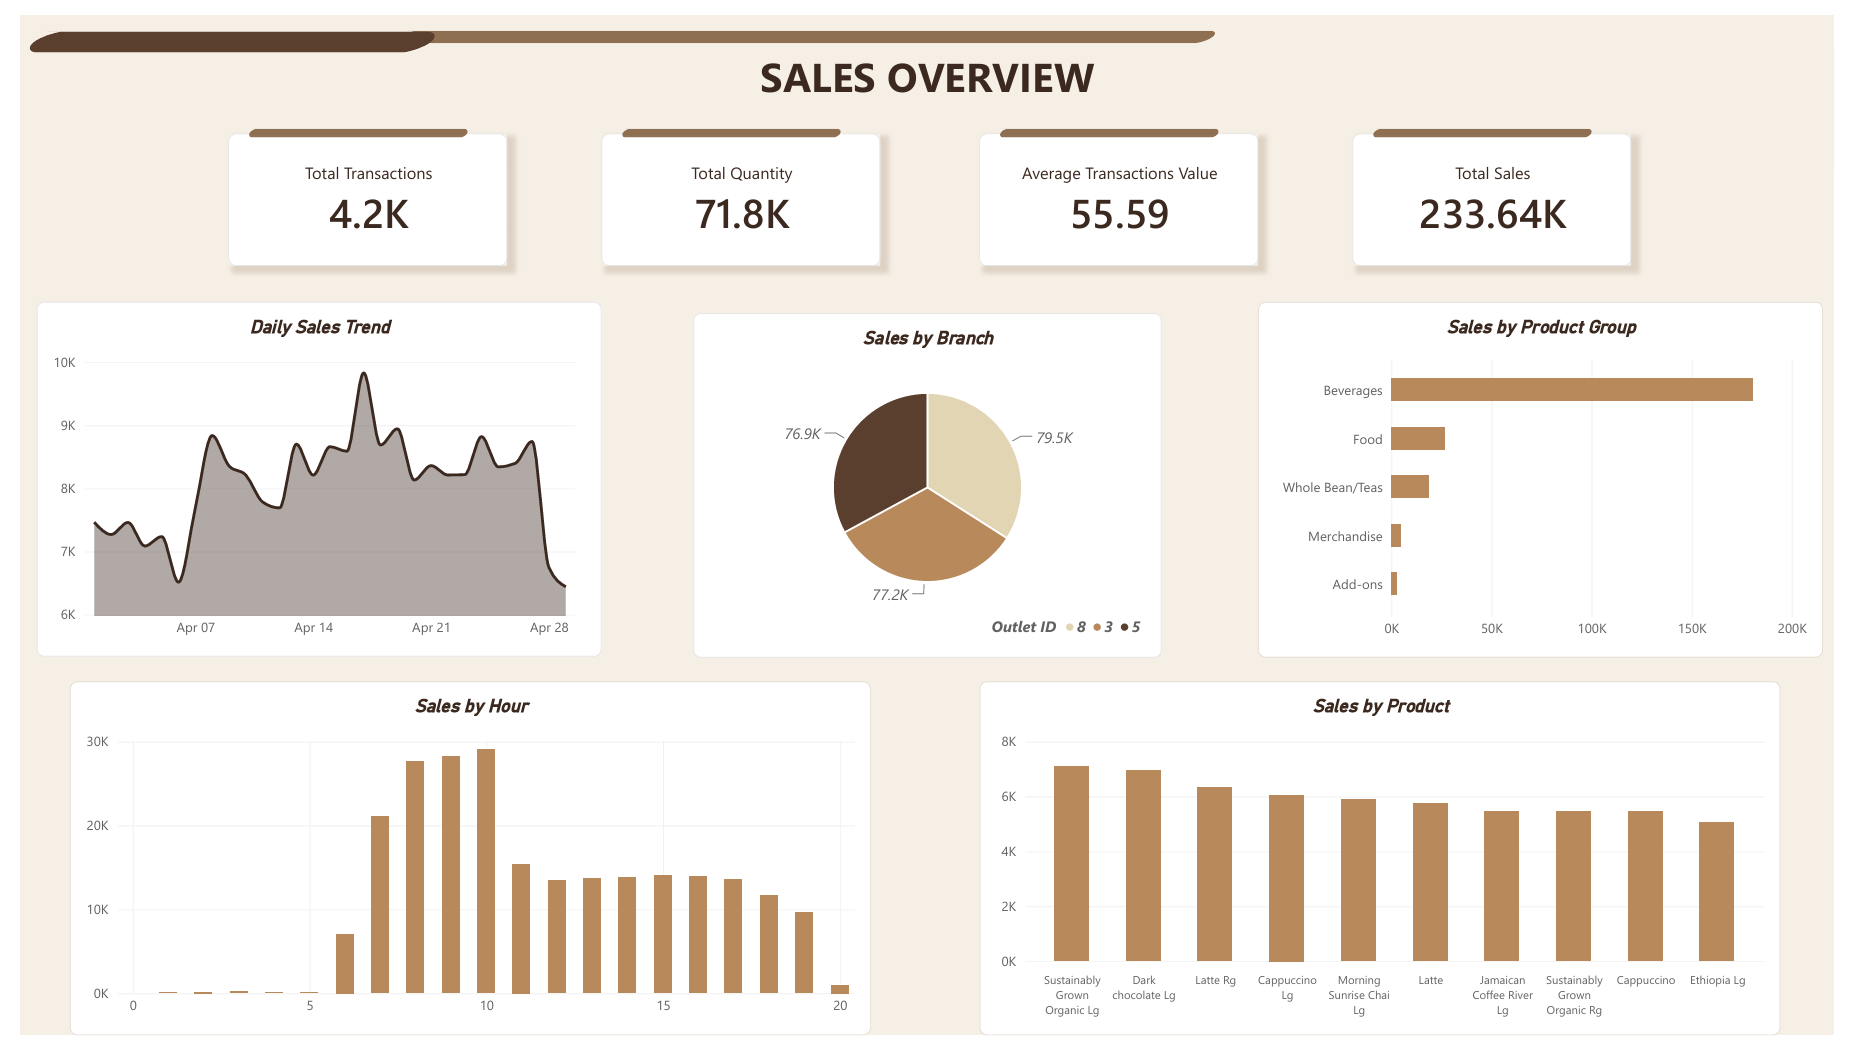

What the dashboard file says about the page in this screenshot:
{"tool":"powerbi","page":{"name":"Sales Overview","canvas":[1920,1080],"ordinal":0},"visuals":[{"type":"cardVisual","fields":{"Data":["201904 sales reciepts.Total Sales"]},"box":[1410,125,295,140],"z":0},{"type":"cardVisual","fields":{"Data":["201904 sales reciepts.Total Quantity"]},"box":[615,125,295,140],"z":1},{"type":"cardVisual","fields":{"Data":["201904 sales reciepts.Total Transactions"]},"box":[220,125,295,140],"z":2},{"type":"cardVisual","fields":{"Data":["201904 sales reciepts.Average Transactions Value"]},"box":[1015,125,295,140],"z":3},{"type":"clusteredBarChart","title":"Sales by Product Group","fields":{"Category":["product.product_group"],"Y":["201904 sales reciepts.Total Sales"]},"box":[1310,303.3,598.3,376.7],"z":4},{"type":"pieChart","title":"Sales by Branch","fields":{"Category":["201904 sales reciepts.sales_outlet_id"],"Y":["201904 sales reciepts.Total Sales"]},"box":[711.7,315,496.7,365],"z":5},{"type":"clusteredColumnChart","title":"Sales by Hour","fields":{"Category":["201904 sales reciepts.Hour"],"Y":["201904 sales reciepts.Total Sales"]},"box":[51.7,705,848.3,375],"z":6},{"type":"lineChart","title":"Daily Sales Trend","fields":{"Category":["201904 sales reciepts.transaction_date"],"Y":["201904 sales reciepts.Total Sales"]},"box":[16.7,303.3,598,376],"z":7},{"type":"textbox","box":[448.3,35,1023.3,56.7],"z":10},{"type":"clusteredColumnChart","title":"Sales by Product","fields":{"Category":["product.product"],"Y":["201904 sales reciepts.Total Sales"]},"box":[1015,705,848.3,375],"z":11},{"type":"shape","box":[240,120,235,12],"z":12},{"type":"shape","box":[1430,120,235,12],"z":13},{"type":"shape","box":[1035,120,235,12],"z":14},{"type":"shape","box":[635,120,235,12],"z":15},{"type":"shape","box":[393.3,16,876.7,16],"z":17},{"type":"shape","box":[0,16.7,448.3,25],"z":18}]}

Visuals, with their boxes in screenshot pixels (x1, y1, x2, y2), scaled from the page's 1920x1080 canvas onto the 1850x1052 screenshot:
cardVisual - 201904 sales reciepts.Total Sales: (left=1359, top=122, right=1643, bottom=258)
cardVisual - 201904 sales reciepts.Total Quantity: (left=593, top=122, right=877, bottom=258)
cardVisual - 201904 sales reciepts.Total Transactions: (left=212, top=122, right=496, bottom=258)
cardVisual - 201904 sales reciepts.Average Transactions Value: (left=978, top=122, right=1262, bottom=258)
"Sales by Product Group" clusteredBarChart: (left=1262, top=295, right=1839, bottom=662)
"Sales by Branch" pieChart: (left=686, top=307, right=1164, bottom=662)
"Sales by Hour" clusteredColumnChart: (left=50, top=687, right=867, bottom=1051)
"Daily Sales Trend" lineChart: (left=16, top=295, right=592, bottom=662)
textbox: (left=432, top=34, right=1418, bottom=89)
"Sales by Product" clusteredColumnChart: (left=978, top=687, right=1795, bottom=1051)
shape: (left=231, top=117, right=458, bottom=129)
shape: (left=1378, top=117, right=1604, bottom=129)
shape: (left=997, top=117, right=1224, bottom=129)
shape: (left=612, top=117, right=838, bottom=129)
shape: (left=379, top=16, right=1224, bottom=31)
shape: (left=0, top=16, right=432, bottom=41)
